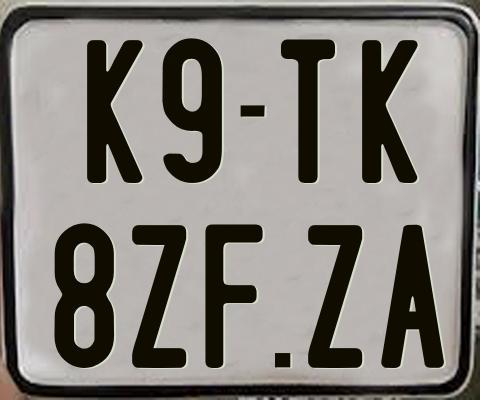8: (52, 221, 112, 372)
9: (159, 36, 225, 183)
A: (379, 223, 445, 368)
F: (205, 223, 264, 373)
K: (359, 39, 416, 186), (85, 38, 141, 182)
T: (278, 38, 333, 184)
Z: (131, 222, 188, 370), (308, 222, 362, 371)
